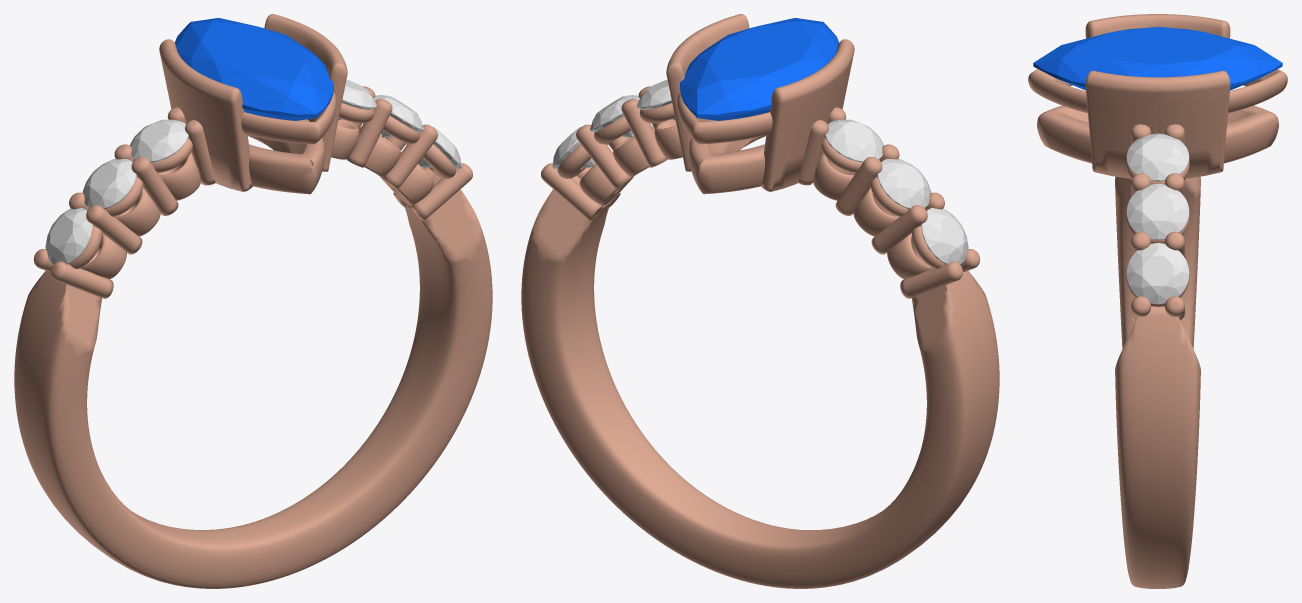
Rendered from bluesapphire-marquise-rosegold-halfmoonbezel-straighttaperedband-7stone.glb.
3 views of the same model, side by side, from view 1: azimuth 30°, elevation 25°; view 2: azimuth 150°, elevation 25°; view 3: azimuth 270°, elevation 25° (orthographic).
Visible parts, largest first — view 1: metal.003, stone.002, side.002, side.013, side.014, side.016, side.017; view 2: metal.003, stone.002, side.002, side.013, side.014, side.016, side.017; view 3: metal.003, stone.002, side.015, side.016, side.017.
Part boxes in pixels (x1,y1,x2,y2): metal.003: [14, 14, 492, 588]; stone.002: [175, 18, 333, 120]; side.002: [45, 207, 92, 264]; side.013: [82, 159, 136, 209]; side.014: [130, 119, 188, 162]; side.016: [374, 95, 423, 137]; side.017: [338, 80, 376, 120]; metal.003: [521, 14, 999, 588]; stone.002: [680, 18, 838, 120]; side.002: [921, 208, 968, 264]; side.013: [877, 159, 931, 209]; side.014: [825, 119, 883, 162]; side.016: [589, 95, 639, 137]; side.017: [637, 80, 675, 120]; metal.003: [1028, 14, 1287, 588]; stone.002: [1033, 27, 1282, 90]; side.015: [1126, 243, 1189, 304]; side.016: [1126, 184, 1189, 240]; side.017: [1126, 133, 1189, 181].
Bounding box in the file's own units: 20.5 × 22.93 × 10.4.
